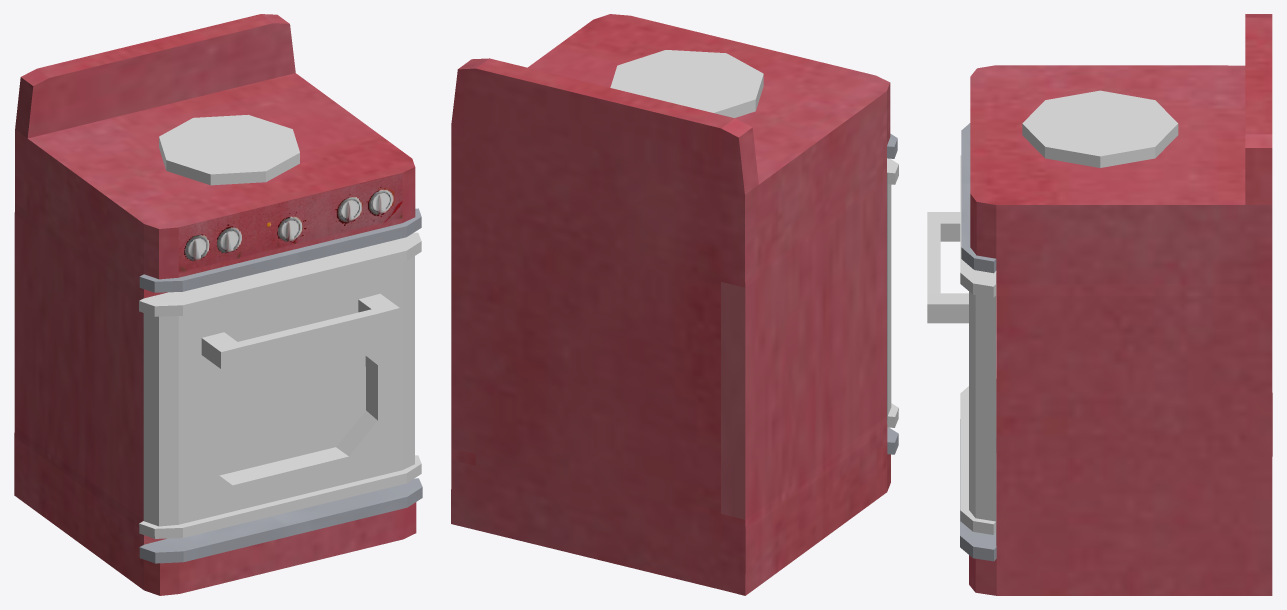
File: oven.glb
3 renders of one model, left to right at view 1: azimuth 30°, elevation 25°; view 2: azimuth 150°, elevation 25°; view 3: azimuth 270°, elevation 25°, orthographic. The views are drawn at different scales.
Visible parts, largest first — view 1: Cube, Cube.001, Cube.002, Cylinder; view 2: Cube, Cylinder, Cube.001; view 3: Cube, Cube.001, Cylinder.
Part boxes in pixels (<box>): Cube: <box>14,14,422,595</box>; Cube.001: <box>139,232,421,538</box>; Cube.002: <box>202,343,365,475</box>; Cylinder: <box>159,114,299,185</box>; Cube: <box>451,14,898,595</box>; Cylinder: <box>610,50,763,117</box>; Cube.001: <box>887,158,898,427</box>; Cube: <box>960,14,1272,595</box>; Cube.001: <box>927,155,995,534</box>; Cylinder: <box>1022,90,1178,167</box>.
Bounding box in the file's own units: 2.5 × 3.6 × 2.5.
1 material, 1 textured.
